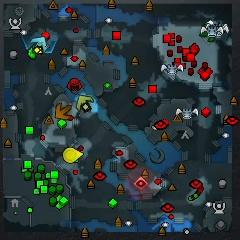Other: (134, 177, 148, 190)
p4: (63, 147, 83, 163)
x2: (77, 95, 93, 110)
x3: (31, 37, 48, 51)
x4: (200, 30, 214, 41)
x5: (55, 102, 72, 121)
